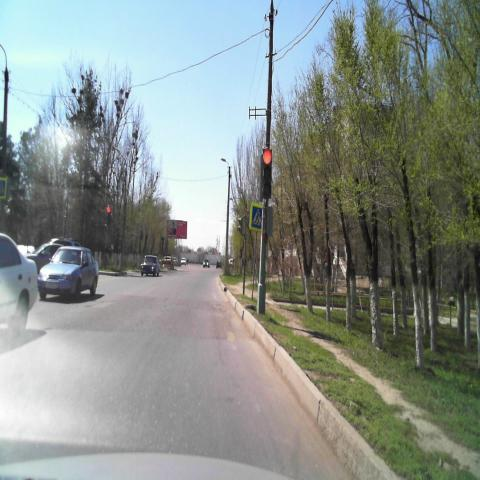5_19_1: (250, 204, 262, 229)
